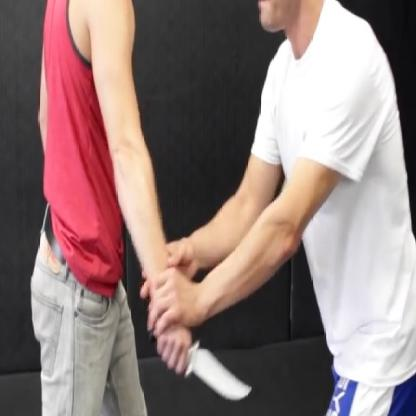knife: (146, 324, 258, 414)
